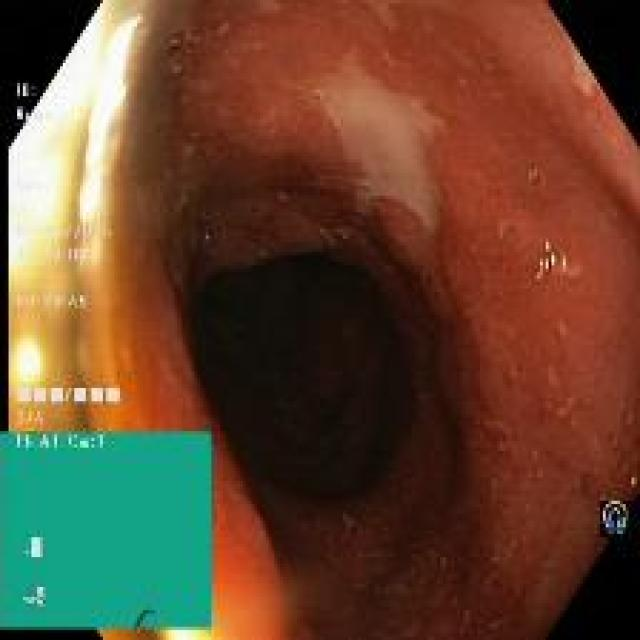ulcerative-colitis-grade-3: (85, 3, 640, 638)
